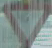Give way: (4, 3, 51, 46)
